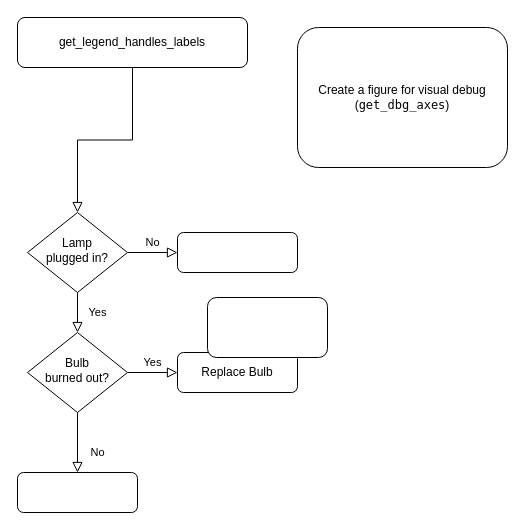
Some shapes in this 525 by 530 pixel diagram are drawn without their labels. Here are the shapes that lost their labels. From the top down, the centre of each, then its label:
(237,252): Plug in lamp
(77,492): Repair Lamp
